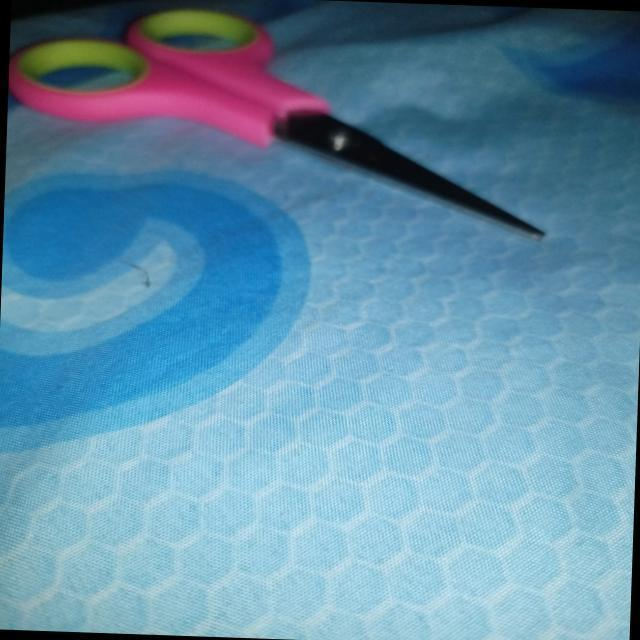scissors: (3, 0, 577, 233)
